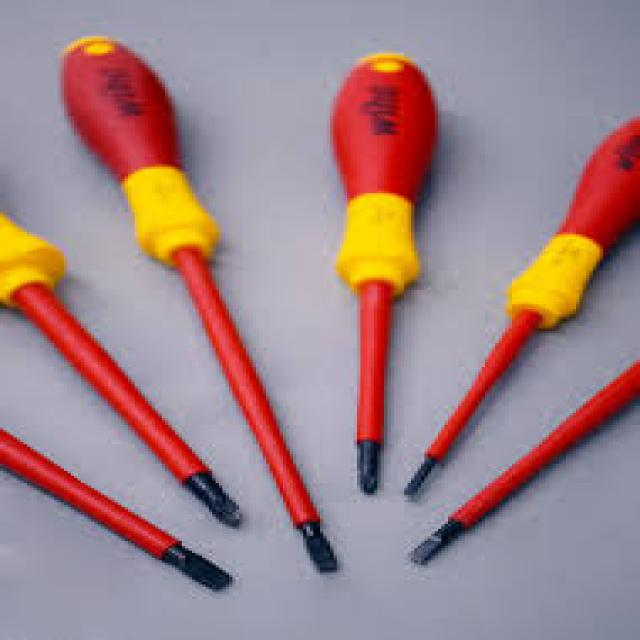screw driver: (37, 23, 347, 564), (278, 42, 440, 494)
